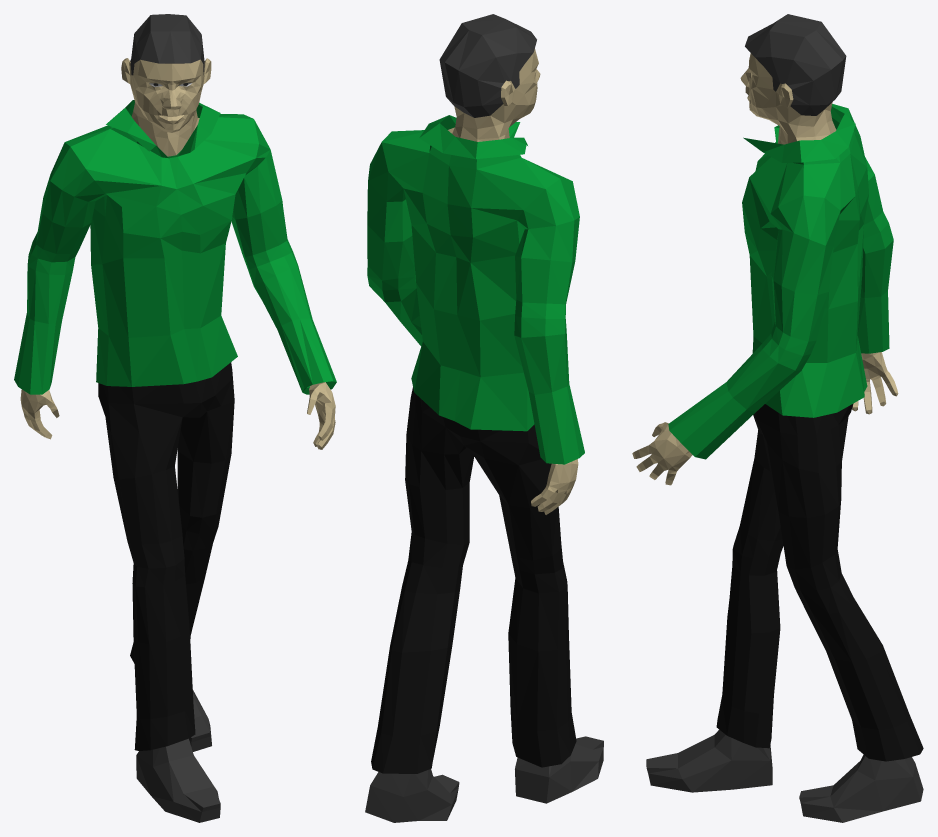
File: person4.dae
The picture shows the model from 3 angles, left to right: view 1: azimuth 30°, elevation 25°; view 2: azimuth 150°, elevation 25°; view 3: azimuth 270°, elevation 25°; orthographic projection. The views are drawn at different scales.
Parts seen in each view (by area): view 1: material_Shape_Coord_Material__5__Surf, material_Shape_Coord_Material__1__Surf, material_Shape_Coord_Material__6__Surf, material_Shape_Coord_Material__2__Surf, material_Shape_Coord_Material__4__Surf; view 2: material_Shape_Coord_Material__5__Surf, material_Shape_Coord_Material__1__Surf, material_Shape_Coord_Material__2__Surf, material_Shape_Coord_Material__4__Surf, material_Shape_Coord_Material__6__Surf; view 3: material_Shape_Coord_Material__5__Surf, material_Shape_Coord_Material__1__Surf, material_Shape_Coord_Material__2__Surf, material_Shape_Coord_Material__6__Surf, material_Shape_Coord_Material__4__Surf.
Part boxes in pixels (x1,y1,x2,y2): material_Shape_Coord_Material__5__Surf: (14, 100, 336, 394); material_Shape_Coord_Material__1__Surf: (98, 362, 234, 750); material_Shape_Coord_Material__6__Surf: (20, 58, 335, 449); material_Shape_Coord_Material__2__Surf: (136, 83, 220, 822); material_Shape_Coord_Material__4__Surf: (130, 14, 204, 75); material_Shape_Coord_Material__5__Surf: (367, 115, 584, 464); material_Shape_Coord_Material__1__Surf: (371, 387, 576, 773); material_Shape_Coord_Material__2__Surf: (365, 736, 603, 822); material_Shape_Coord_Material__4__Surf: (439, 14, 536, 117); material_Shape_Coord_Material__6__Surf: (448, 49, 578, 514); material_Shape_Coord_Material__5__Surf: (668, 104, 893, 459); material_Shape_Coord_Material__1__Surf: (716, 403, 923, 761); material_Shape_Coord_Material__2__Surf: (646, 729, 923, 822); material_Shape_Coord_Material__6__Surf: (632, 53, 898, 485); material_Shape_Coord_Material__4__Surf: (745, 14, 846, 115).
Size of the model in its own units: 7.14 by 21.15 by 7.23.
